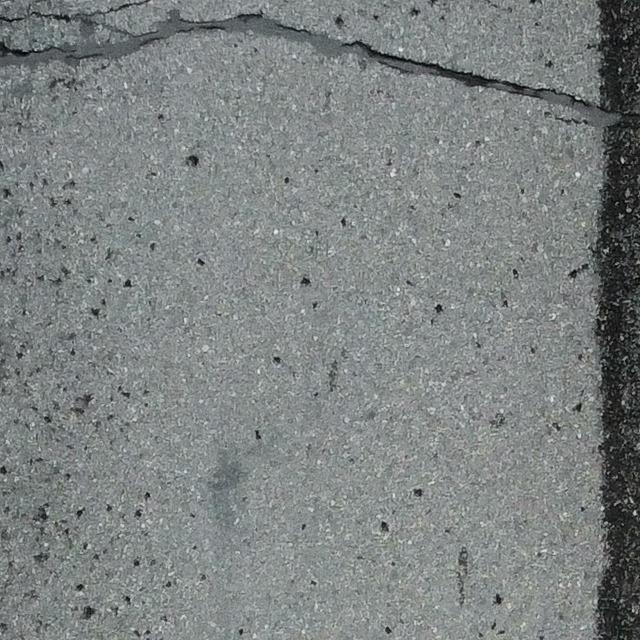TransverseCrack: (1, 12, 640, 130)
